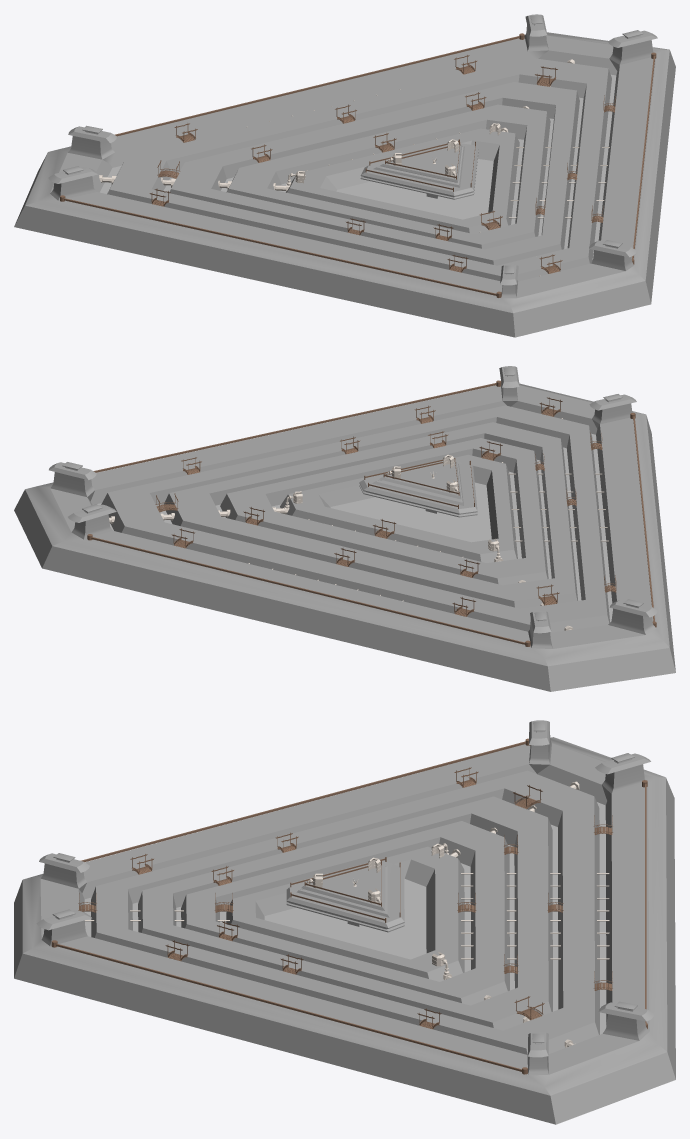
File: Air_level_complete.fbx
The picture shows the model from 3 angles, top to bottom: view 1: azimuth 30°, elevation 25°; view 2: azimuth 150°, elevation 25°; view 3: azimuth 270°, elevation 25°; orthographic projection. The views are drawn at different scales.
Parts seen in each view (by area): view 1: Platform, Water_example, Bridges, Platform_fences_1, Teleports; view 2: Platform, Water_example, Bridges, Platform_fences_1, Teleports; view 3: Platform, Water_example, Bridges, Platform_fences_1, Teleports, Pipes_small.
Part boxes in pixels (x1,y1,x2,y2): Platform: (14,14,675,337); Water_example: (100,74,616,259); Bridges: (149,55,615,273); Platform_fences_1: (60,33,656,297); Teleports: (99,59,574,191); Platform: (14,366,675,691); Water_example: (97,433,612,622); Bridges: (155,397,616,616); Platform_fences_1: (87,380,656,646); Teleports: (109,454,573,630); Platform: (14,720,675,1124); Water_example: (84,802,606,1034); Bridges: (78,767,612,1029); Platform_fences_1: (51,738,647,1074); Teleports: (306,781,579,1047); Pipes_small: (84,873,609,959).
Size of the model in its own units: 1452 by 144 by 1103.
